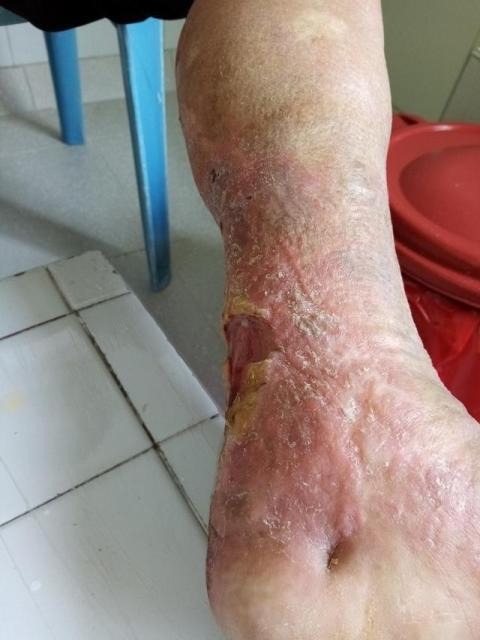wound: (221, 300, 281, 444), (318, 528, 363, 574)
